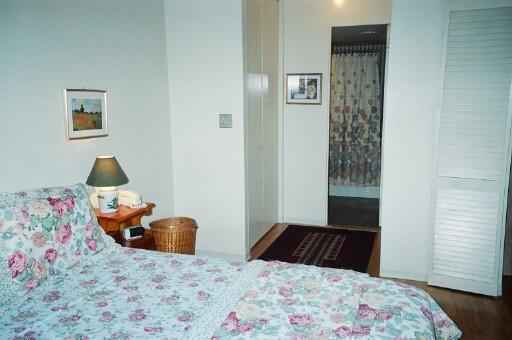Armario: (250, 3, 280, 238)
Bote de Basura: (147, 216, 196, 257)
Cama: (3, 182, 467, 339)
Ducha: (332, 50, 380, 198)
